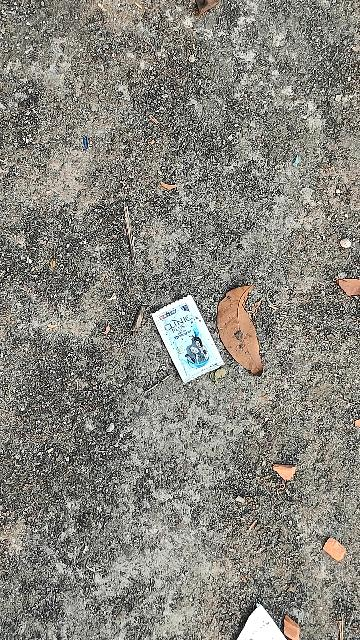packet: (144, 292, 228, 388)
